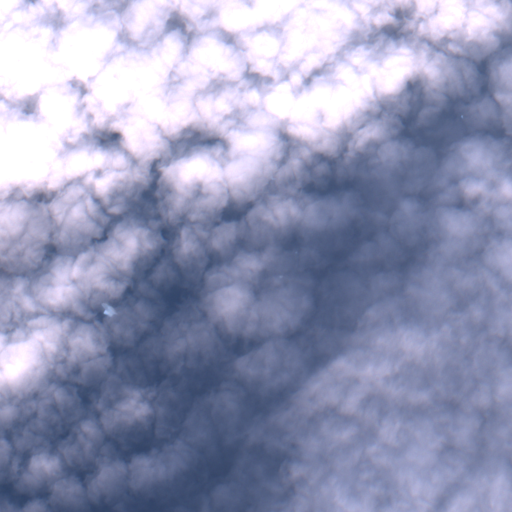Iceberg: (102, 303, 116, 317), (461, 115, 462, 117)
